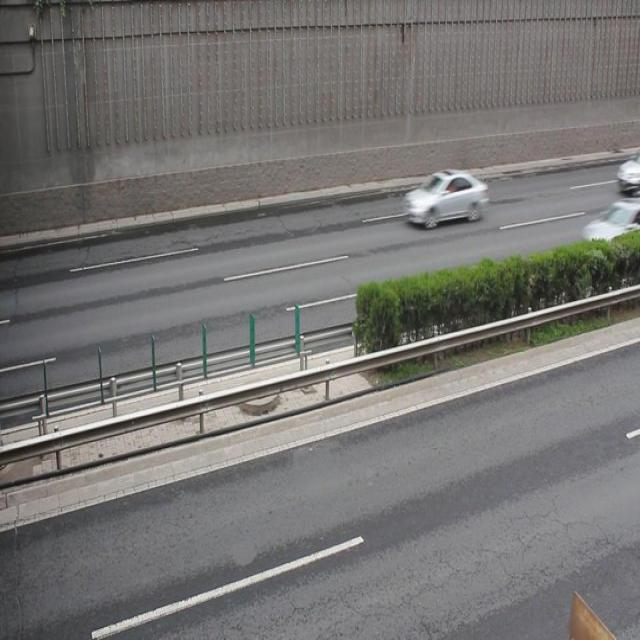car: (403, 168, 485, 231), (580, 199, 640, 247), (615, 151, 640, 192)
